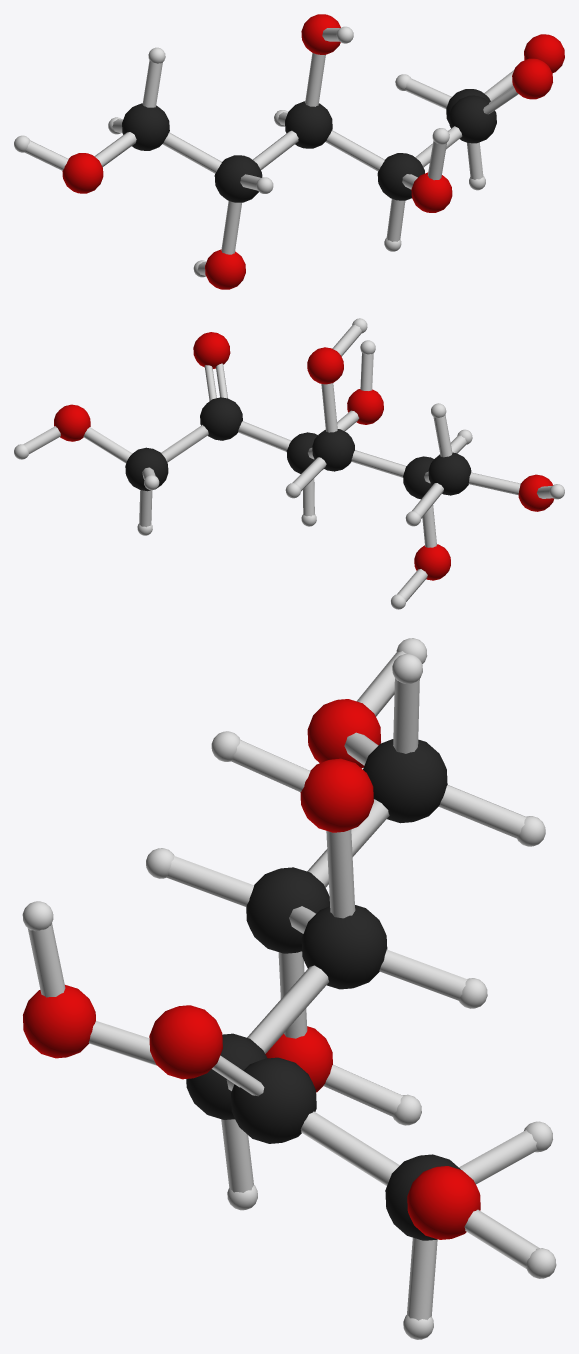
Rendered from fructose.fbx.
3 renders of one model, top to bottom at view 1: azimuth 30°, elevation 25°; view 2: azimuth 150°, elevation 25°; view 3: azimuth 270°, elevation 25°, orthographic. The views are drawn at different scales.
Parts seen in each view (by area): view 1: Group3, Group8, Group14, Group11, Group5, Group4, Group15, Group13, Group7, Group10, Group1, Group38 (+14 smaller); view 2: Group3, Group14, Group8, Group2, Group10, Group4, Group1, Group13, Group7, Group11, Group15, Group5 (+16 smaller); view 3: Group3, Group8, Group14, Group11, Group4, Group10, Group1, Group7, Group15, Group5, Group26, Group32 (+19 smaller).
Part boxes in pixels (bbox=[...]): Group3: bbox=[449, 95, 496, 143]; Group8: bbox=[285, 101, 332, 148]; Group14: bbox=[122, 103, 169, 150]; Group11: bbox=[214, 155, 262, 202]; Group5: bbox=[377, 153, 424, 200]; Group4: bbox=[512, 58, 552, 99]; Group15: bbox=[62, 153, 103, 193]; Group13: bbox=[205, 249, 245, 289]; Group7: bbox=[411, 172, 452, 212]; Group10: bbox=[301, 14, 340, 54]; Group1: bbox=[524, 34, 564, 73]; Group38: bbox=[162, 132, 221, 173]; Group3: bbox=[200, 397, 242, 440]; Group14: bbox=[428, 452, 471, 495]; Group8: bbox=[312, 429, 354, 471]; Group2: bbox=[125, 447, 168, 491]; Group10: bbox=[307, 347, 343, 384]; Group4: bbox=[193, 332, 230, 368]; Group1: bbox=[54, 404, 90, 441]; Group13: bbox=[414, 544, 450, 580]; Group7: bbox=[347, 389, 383, 424]; Group11: bbox=[403, 456, 434, 498]; Group15: bbox=[518, 474, 553, 511]; Group5: bbox=[286, 432, 323, 473]; Group3: bbox=[231, 1057, 316, 1143]; Group8: bbox=[301, 905, 387, 989]; Group14: bbox=[363, 739, 447, 823]; Group11: bbox=[246, 867, 329, 953]; Group4: bbox=[149, 1005, 222, 1079]; Group10: bbox=[300, 758, 373, 832]; Group1: bbox=[407, 1166, 480, 1239]; Group7: bbox=[23, 985, 95, 1058]; Group15: bbox=[307, 699, 380, 768]; Group5: bbox=[186, 1033, 266, 1119]; Group26: bbox=[300, 1111, 399, 1185]; Group32: bbox=[247, 965, 329, 1053].
Size of the model in its own units: 752 by 329 by 336.
